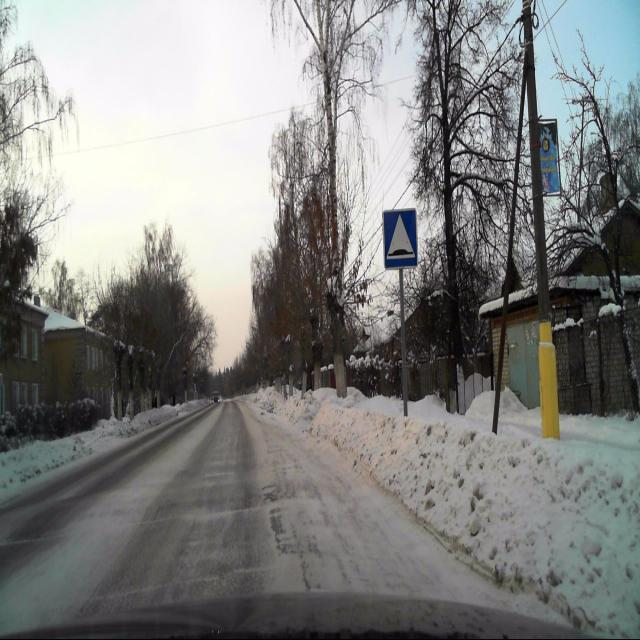object: (398, 268, 409, 419)
road sign: (382, 208, 417, 268)
